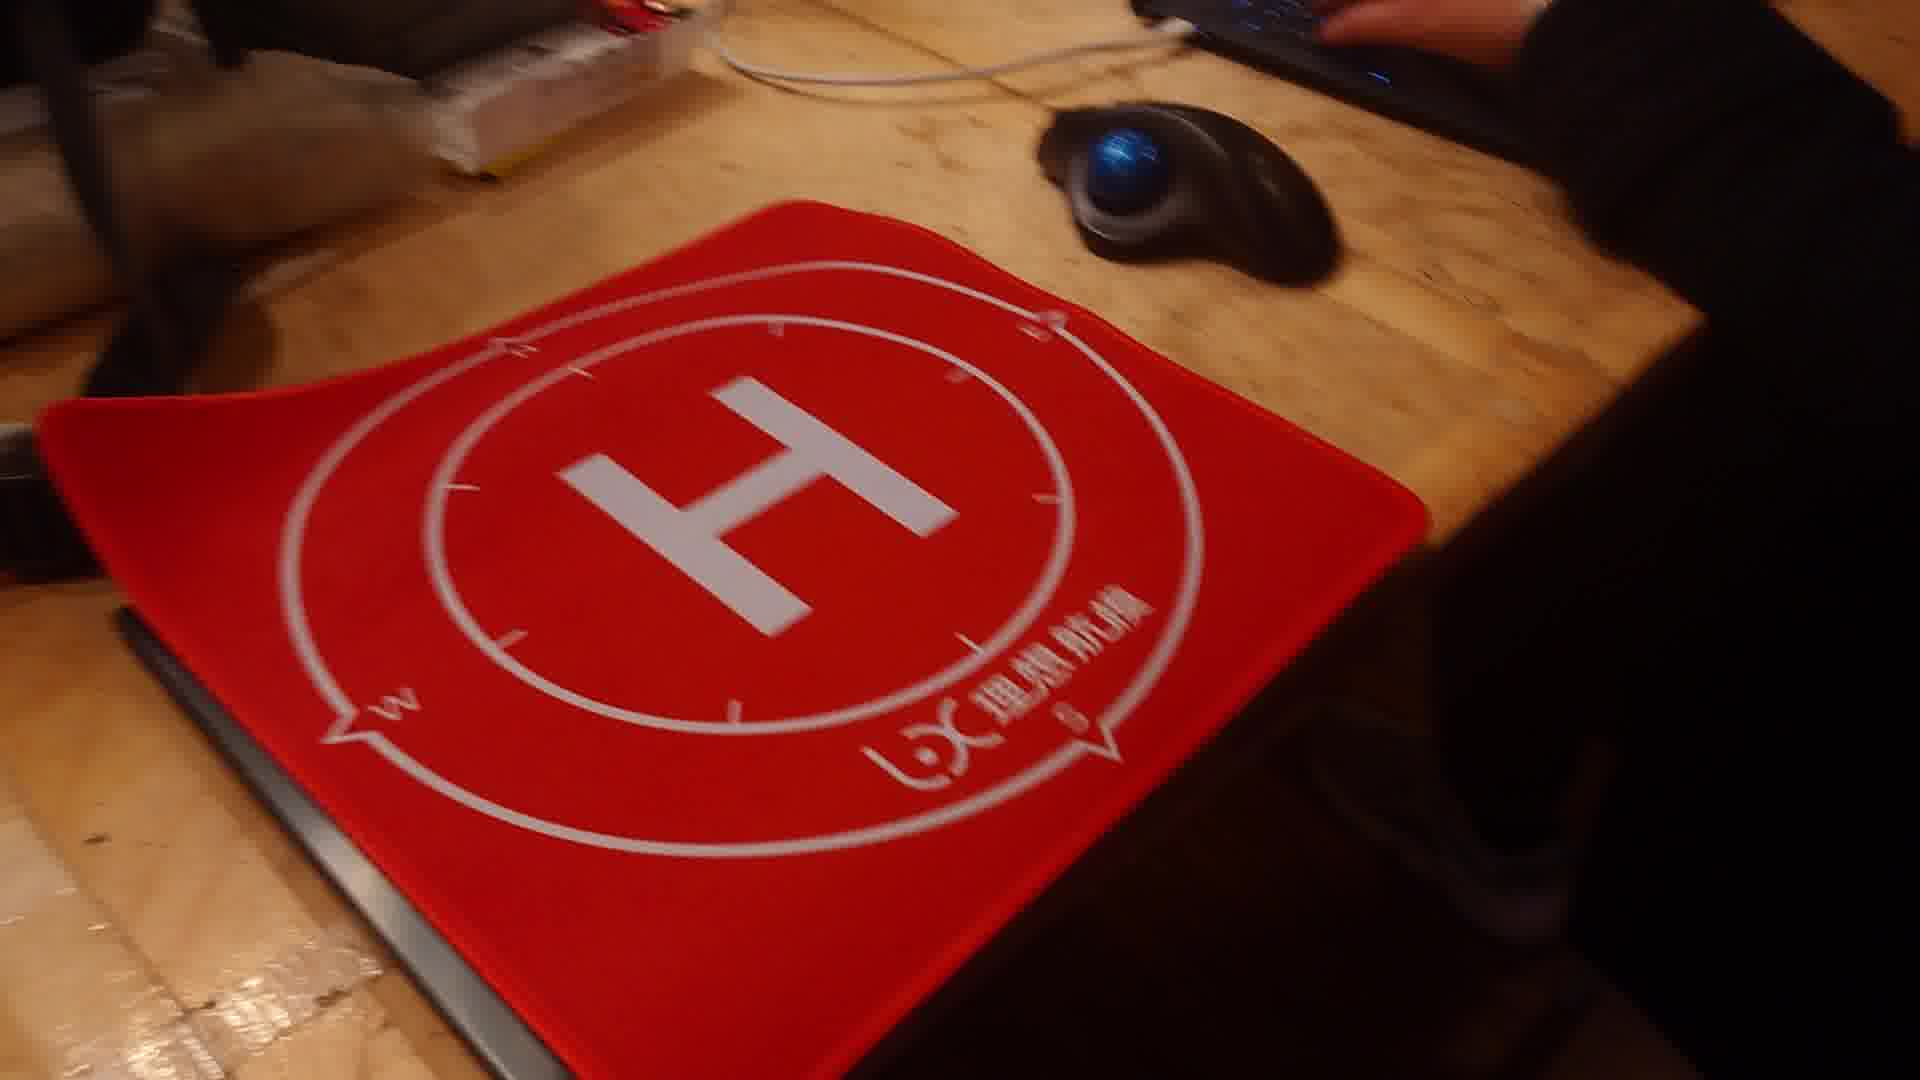H: (559, 376, 967, 638)
